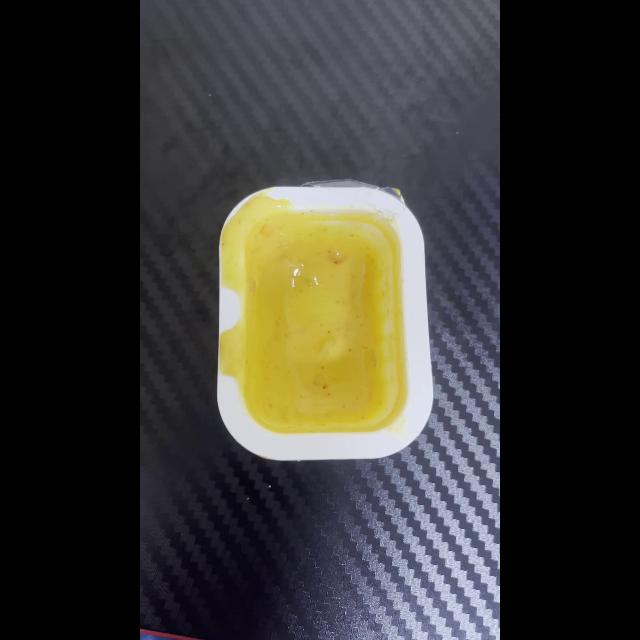dirty: (220, 178, 428, 460)
